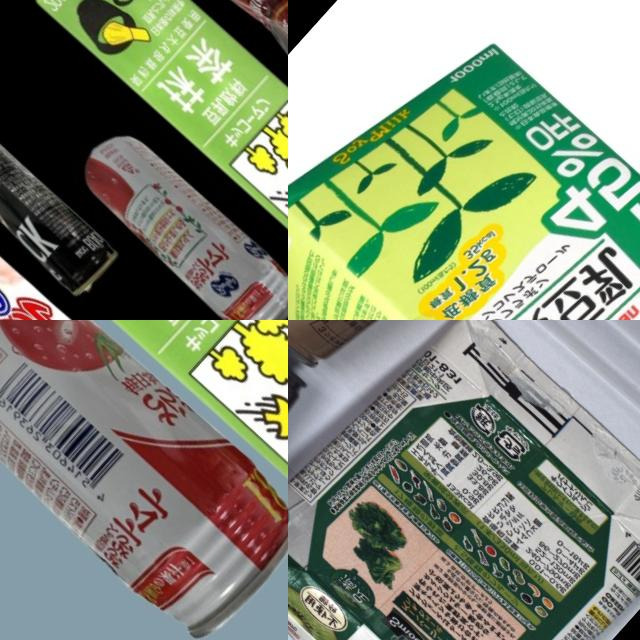Aluminium Foil: (288, 320, 640, 640), (288, 5, 640, 320), (24, 0, 288, 294), (0, 320, 288, 527), (0, 163, 197, 320)
Can: (0, 320, 288, 640), (63, 117, 288, 320), (0, 117, 123, 302), (142, 0, 288, 127)
